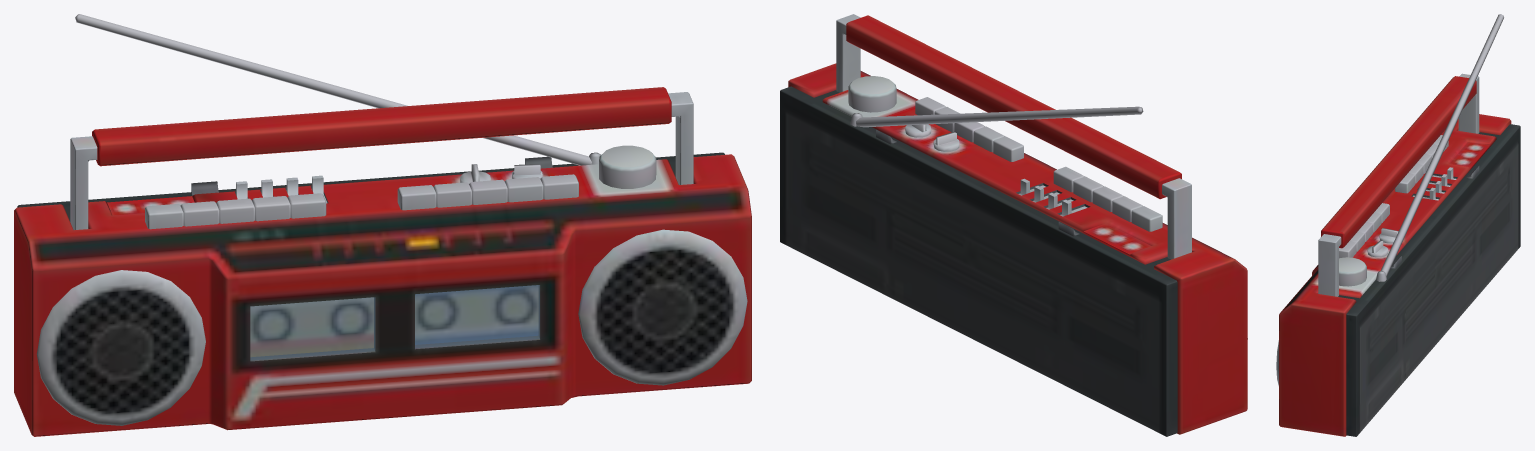
The picture shows the model from 3 angles, left to right: view 1: azimuth 30°, elevation 25°; view 2: azimuth 150°, elevation 25°; view 3: azimuth 270°, elevation 25°; orthographic projection. The views are drawn at different scales.
Size of the model in its own units: 8.89 by 5.06 by 4.51.
2 materials, 1 textured.
